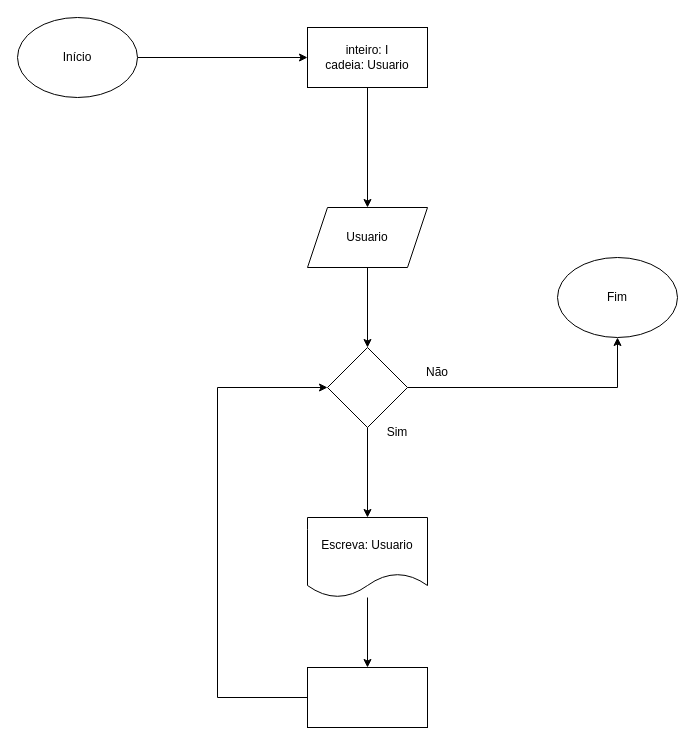
This 695x745 diagram has some shape labels left out. Here are the shapes that lost their labels. From the top down, the box of each, then its label:
(326, 346, 408, 428): I <= 10
(306, 666, 428, 728): I++
